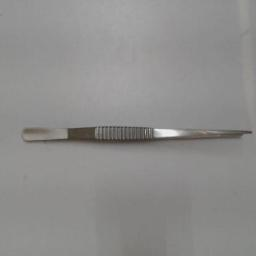DeBakey Dissector: (18, 109, 254, 173)
